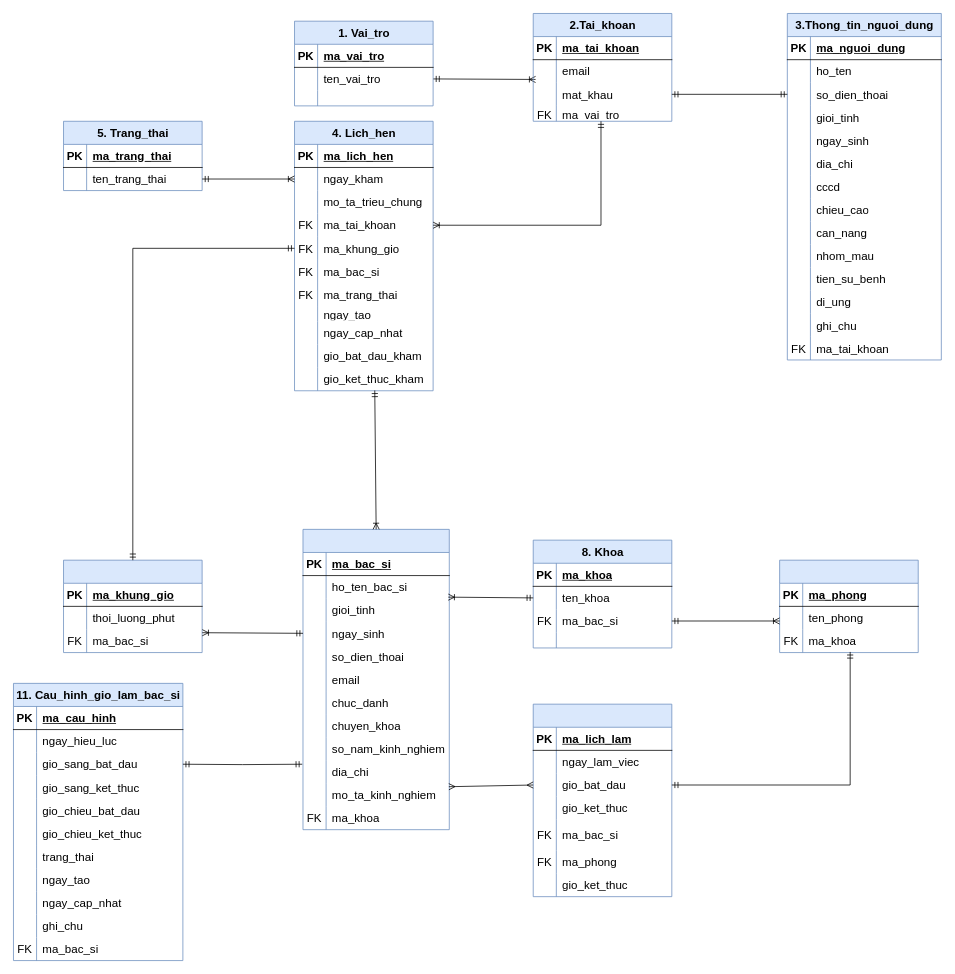
Some shapes in this 955 by 974 pixel diagram are drawn without their labels. The shapes that lost their labels are listed below. From the top down, each one's box as (x1, y1, x2, y2) in pixels, then its label:
(63, 559, 202, 653): 6. Khung_gio_kham
(779, 559, 918, 653): 10. Phong_kham
(302, 529, 449, 830): 7. Bac_si
(532, 703, 672, 897): 9. Lich_lam_viec
